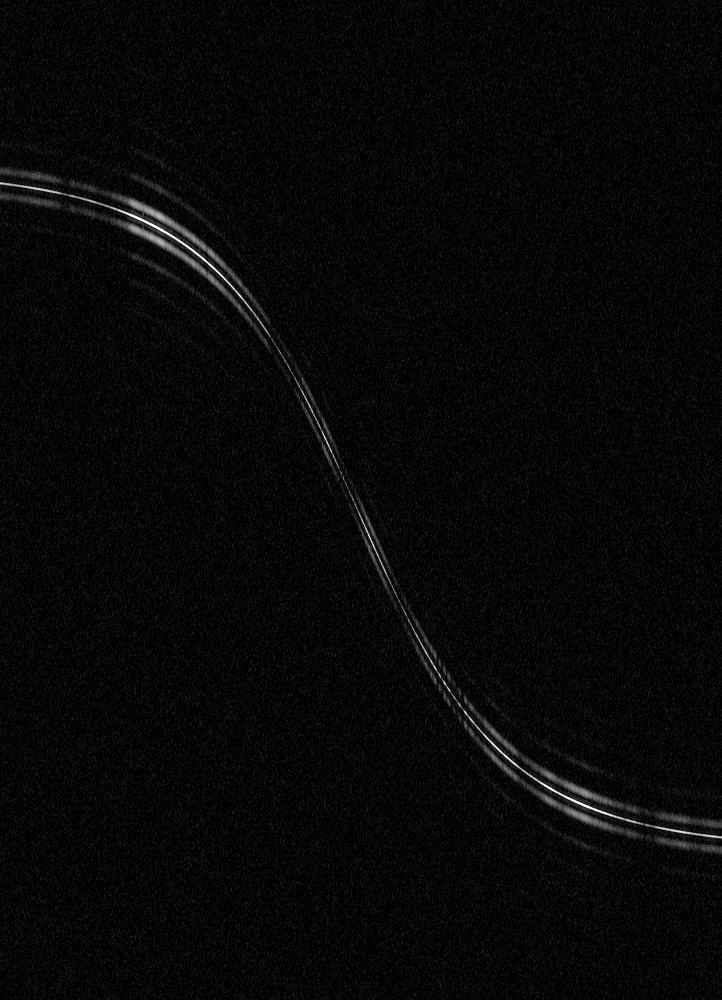signal: (0, 0, 721, 999)
